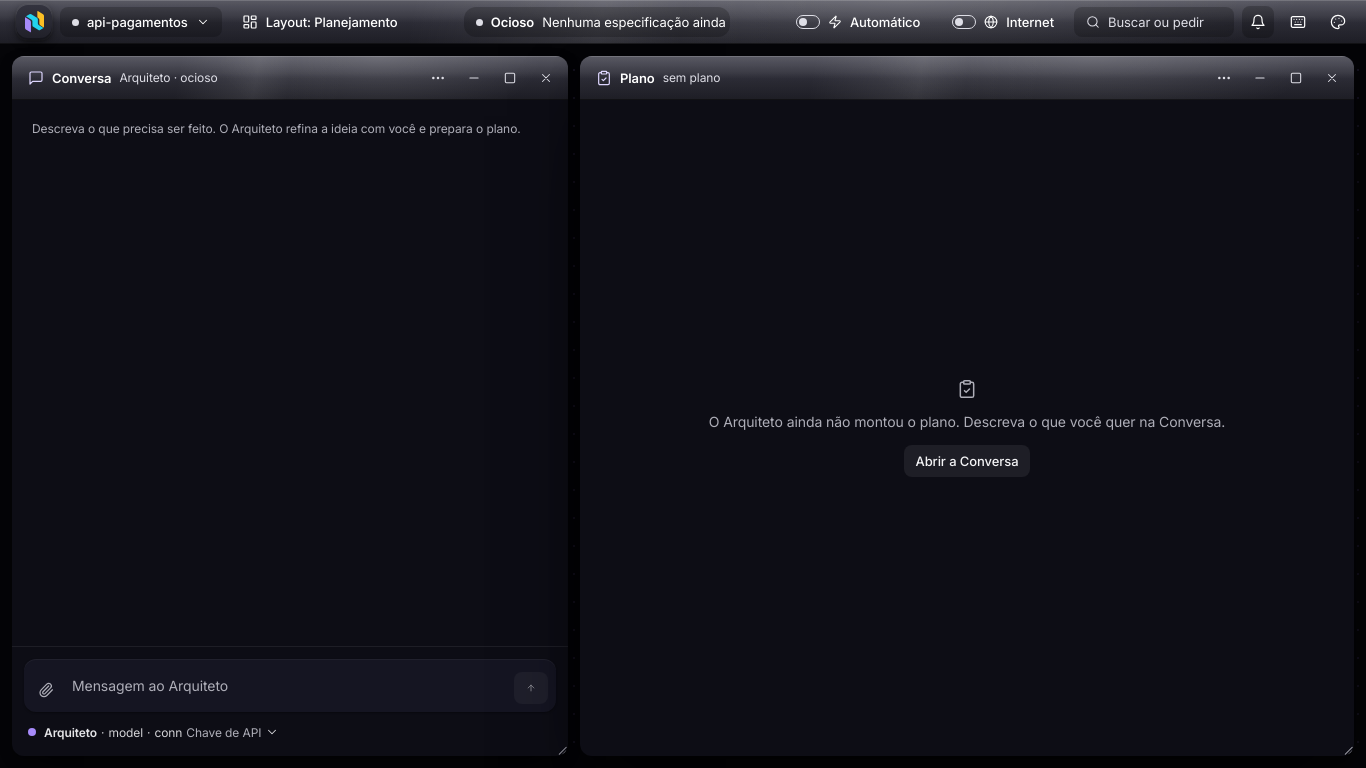
Scenario: resposta do Arquiteto: dedupe por turn_id › 504 do chat: o servidor cancelou o turno; aviso e nenhuma resposta
Type "oi" into the text box named "Mensagem para o Arquiteto" at (287, 686), box [68,667,506,704]
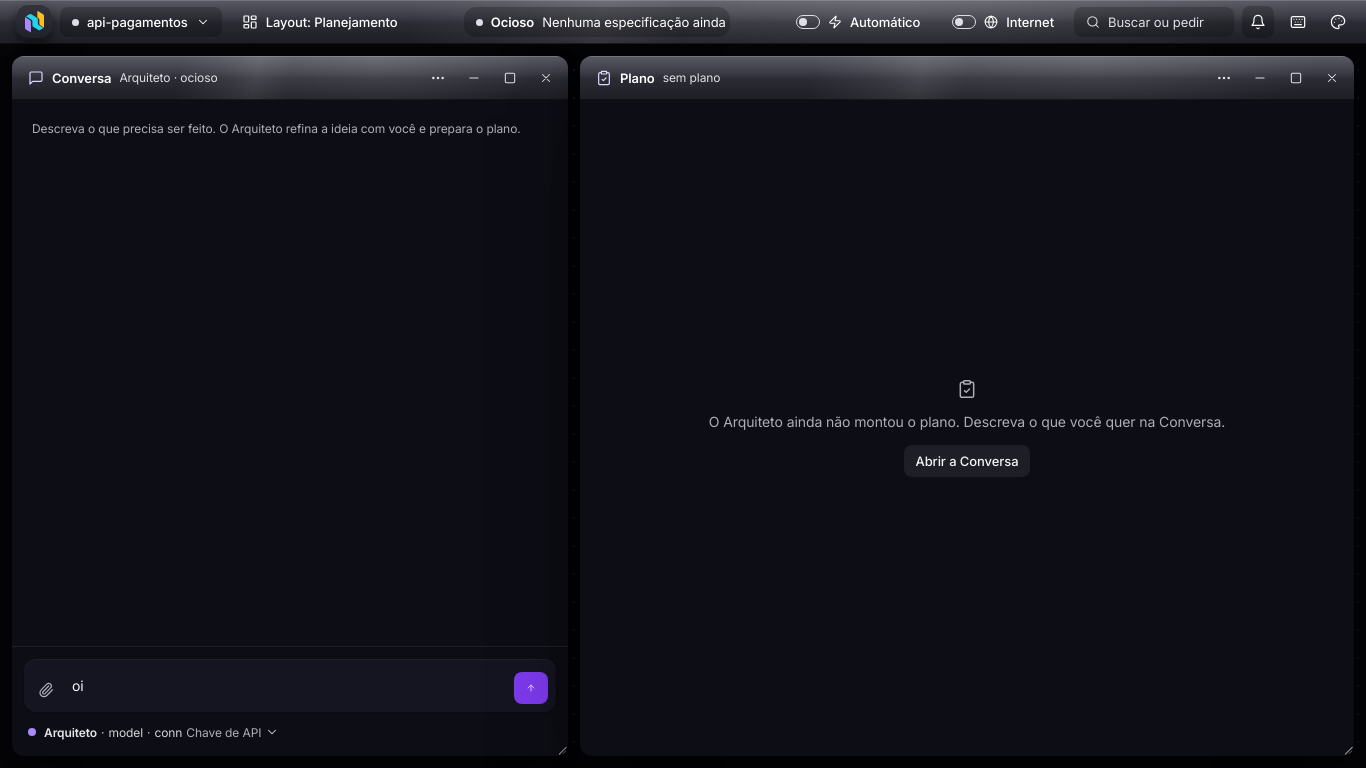
Press Enter in the text box named "Mensagem para o Arquiteto", box [68,667,506,704]
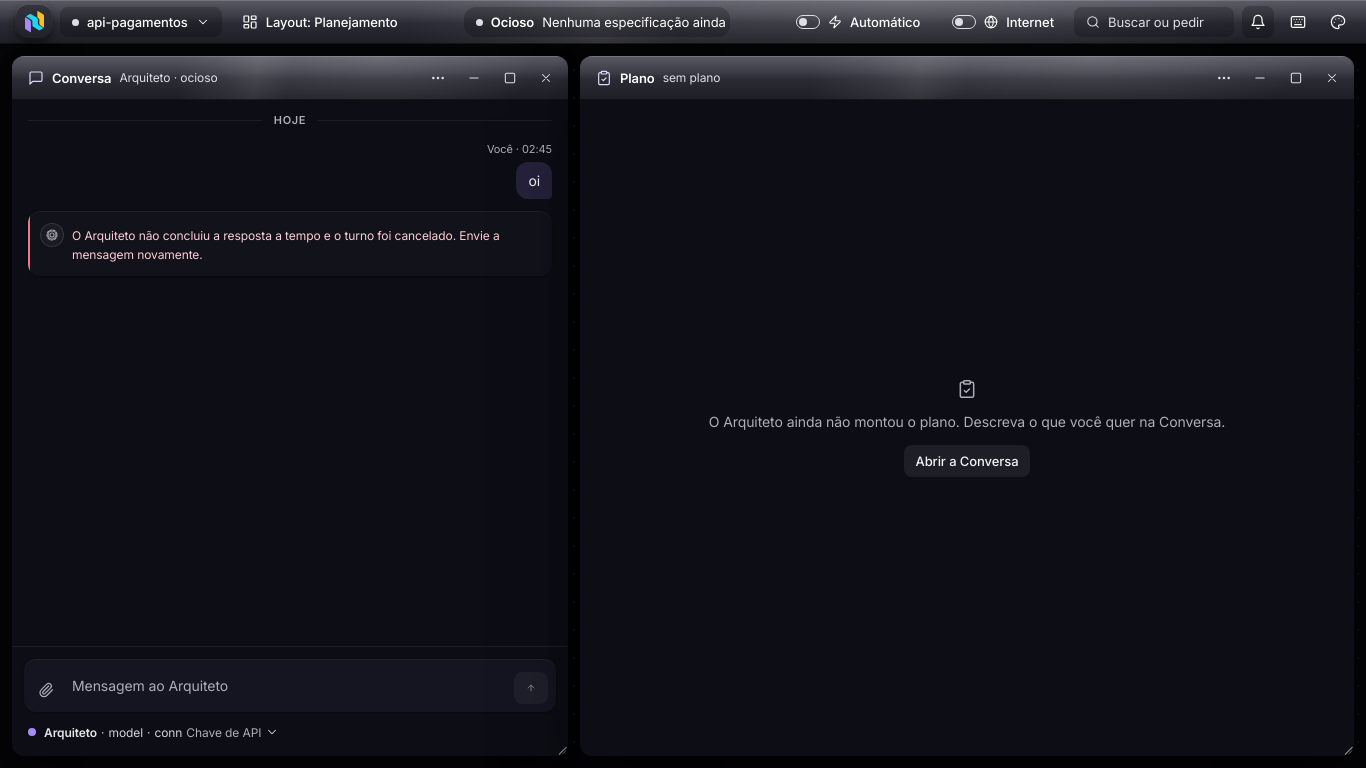
Expected: the text "O Arquiteto não concluiu a resposta a tempo e o turno foi cancelado. Envie a mensagem novamente." is shown, [72,228,503,262]
